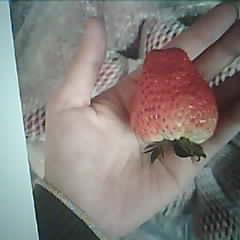straw-ripe: (130, 48, 219, 144)
